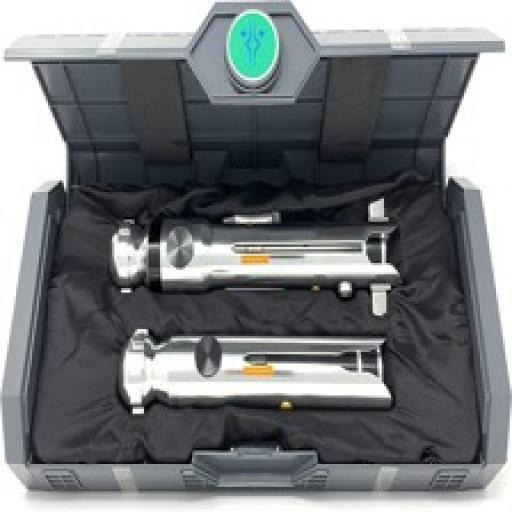lightsaber: (107, 202, 403, 319), (115, 323, 393, 422)
